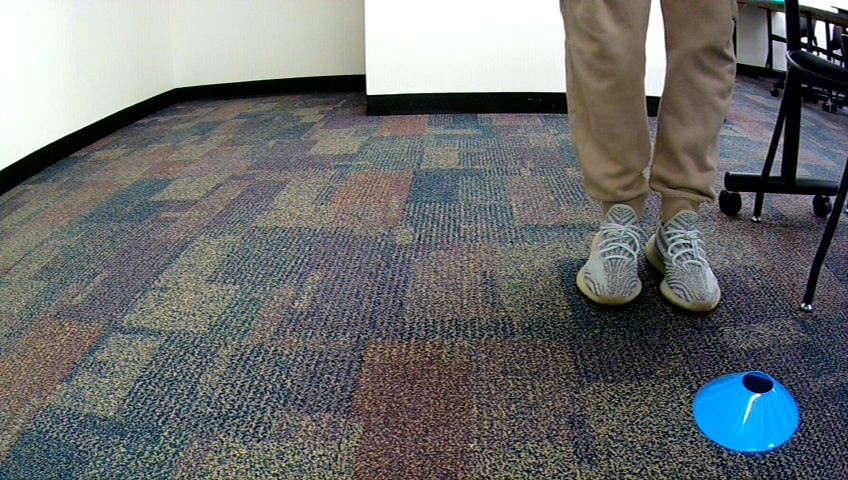cone: (691, 369, 801, 453)
